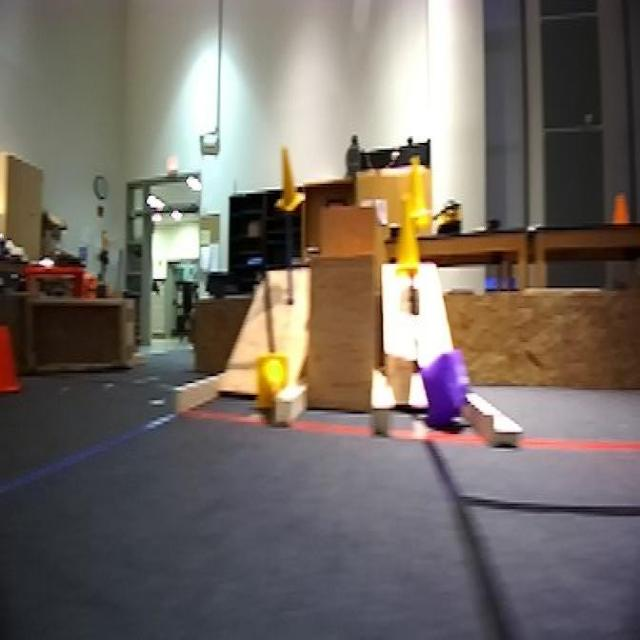frc_cone: (250, 352, 290, 414), (274, 144, 305, 214), (398, 199, 425, 279), (403, 155, 430, 226)
frc_cube: (418, 352, 472, 432)
